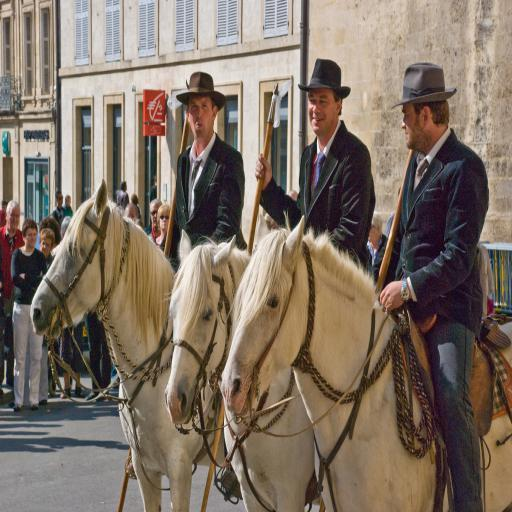horse: (221, 214, 512, 512), (28, 179, 236, 512), (162, 230, 329, 512)
